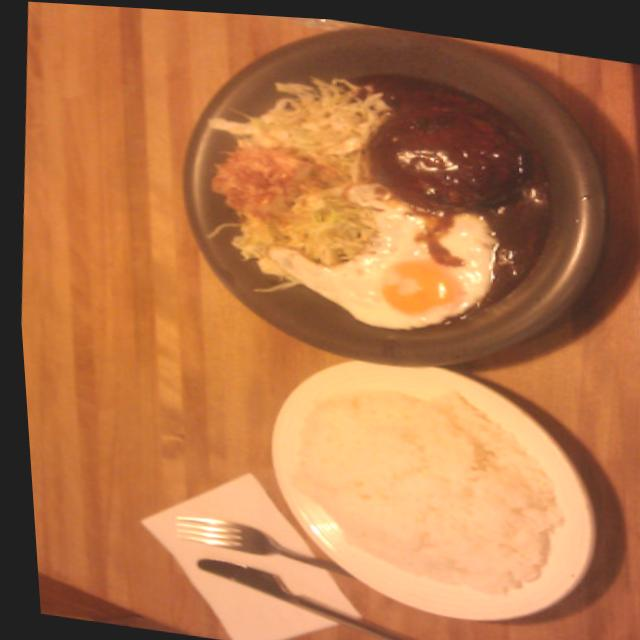米饭主食: (230, 332, 611, 640)
鸡蛋料理: (246, 183, 509, 346)
